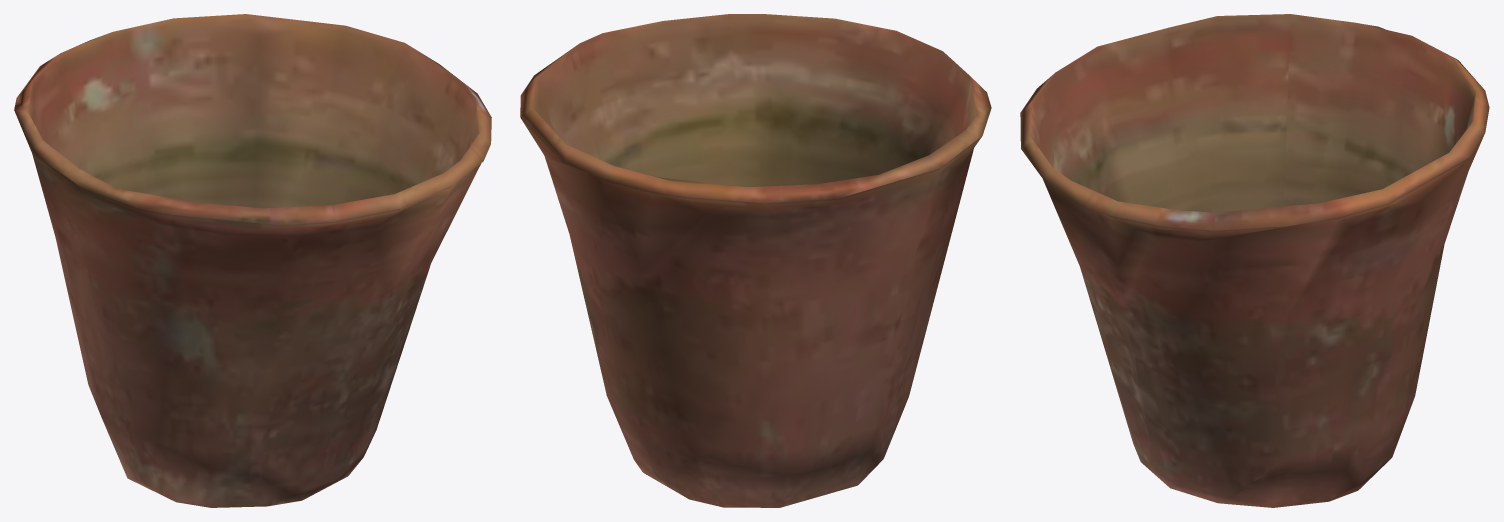
Rendered from clay_pot.glb.
The picture shows the model from 3 angles, left to right: view 1: azimuth 30°, elevation 25°; view 2: azimuth 150°, elevation 25°; view 3: azimuth 270°, elevation 25°; orthographic projection.
Parts seen in each view (by area): view 1: clay_pot; view 2: clay_pot; view 3: clay_pot.
Boxes of the visible parts, x1,y1,x2,y2 form: clay_pot: (14,14,491,507); clay_pot: (520,14,991,507); clay_pot: (1020,14,1489,507).
Bounding box in the file's own units: 0.2637 × 0.2218 × 0.2616.
Materials: 1 (1 with a texture image).
